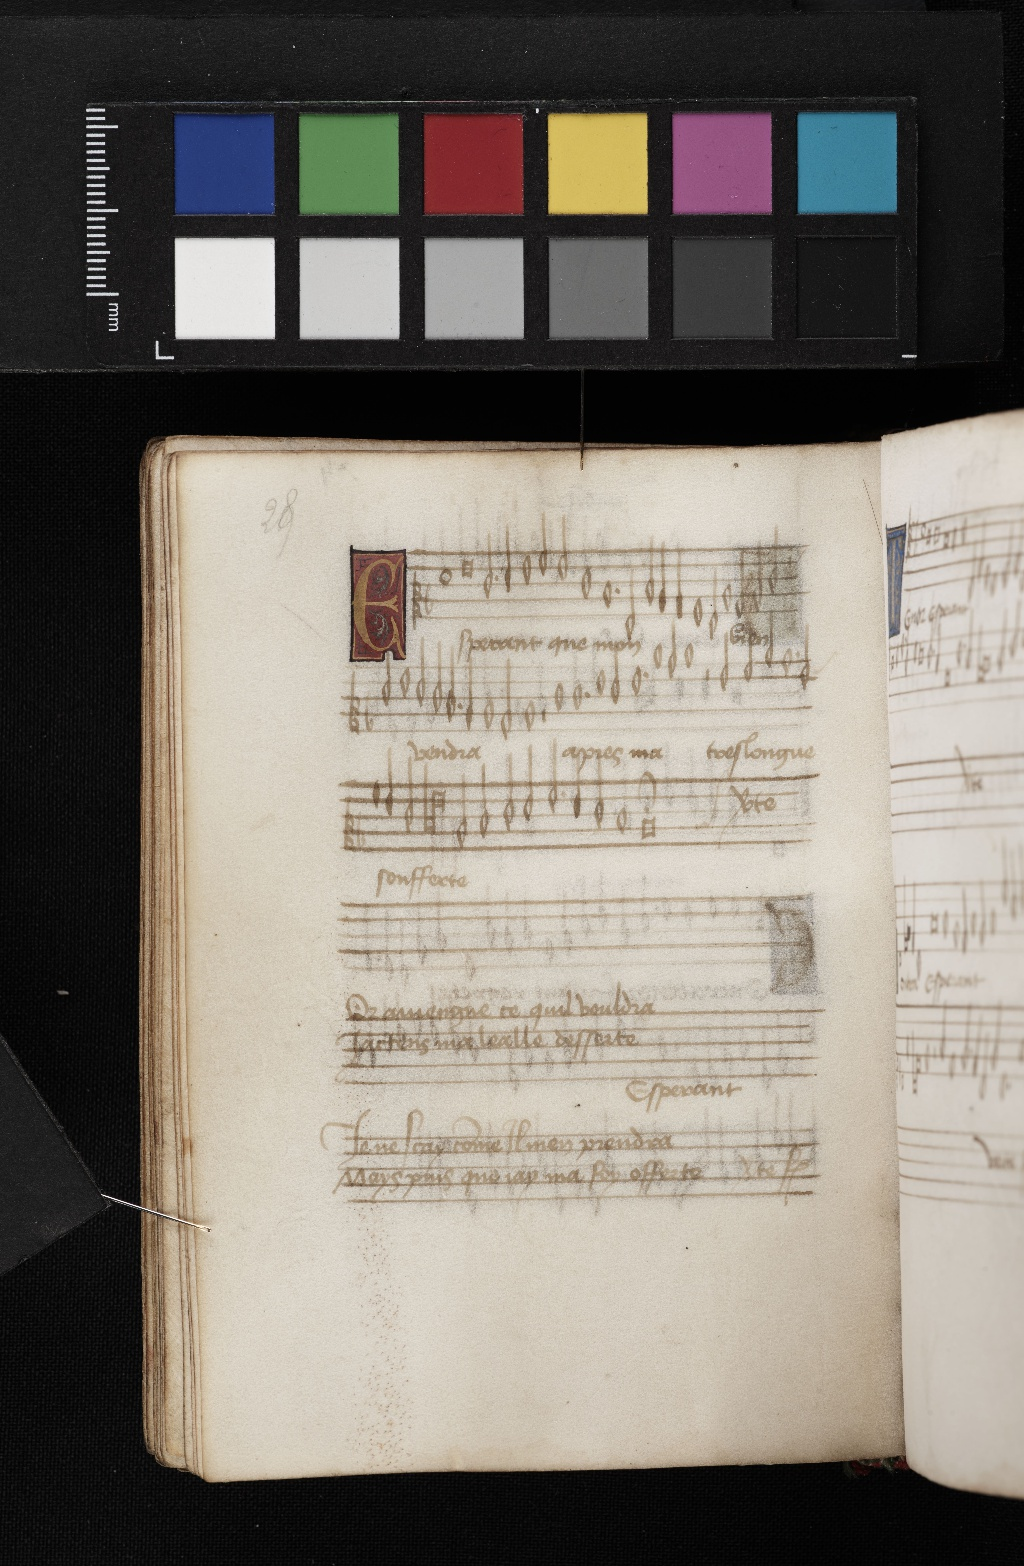Pmin: (432, 559, 457, 596)
breve_5: (455, 555, 478, 584)
c clef_9: (408, 568, 424, 633)
flat_8: (419, 573, 440, 627)
minim_10: (731, 551, 747, 627)
minim_12: (619, 568, 638, 640), (705, 571, 721, 640)
minim_4: (534, 520, 550, 580)
minim_5: (553, 520, 571, 585)
minim_7: (765, 535, 783, 599), (479, 540, 494, 604)
minim_8: (641, 548, 657, 611)
minim_9: (750, 555, 768, 610)
point: (489, 570, 504, 589), (609, 579, 623, 600)
semibreve_10: (719, 578, 734, 613)
semibreve_11: (690, 592, 707, 631)
semibreve_5: (518, 549, 535, 589)
semibreve_7: (577, 559, 595, 605)
semibreve_8: (597, 573, 616, 616)
semiminim_10: (670, 546, 686, 626)
semiminim_6: (499, 525, 515, 600)
semiminim_9: (655, 556, 667, 620)
